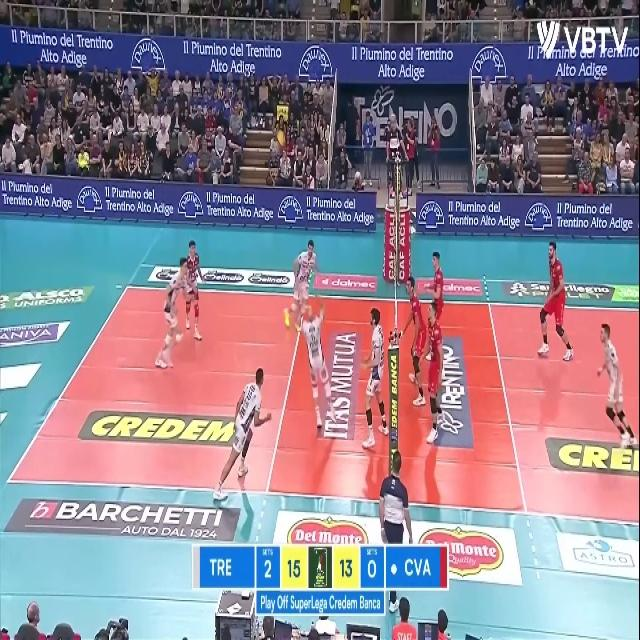volleyball court: (6, 283, 638, 520)
